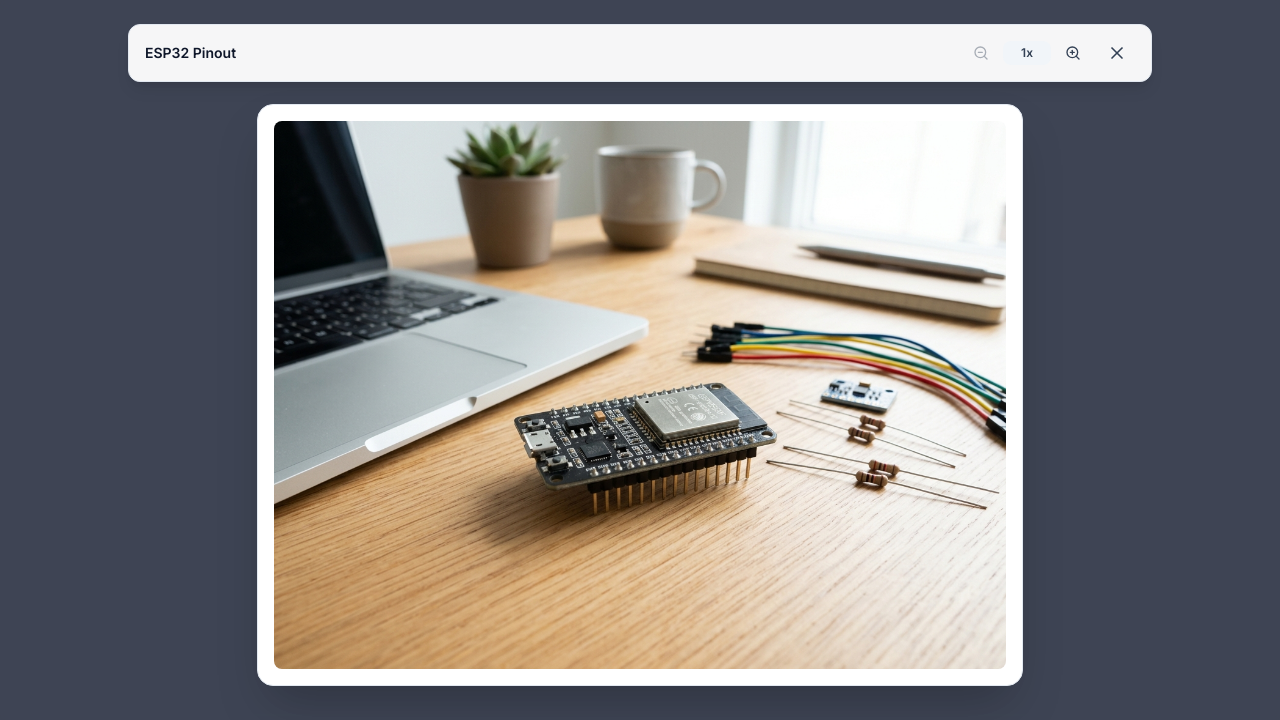
LightboxImageModal Component › opens, supports zoom toggle with scrollable container layout, and closes on Escape key
Later steps or results of the test are not shown.
Check: the text "ESP32 Pinout" is shown, box left=145, top=43, right=236, bottom=63
Click the button named "Yaxınlaşdırma dərəcəsi": (1027, 53) left=1003, top=41, right=1051, bottom=65
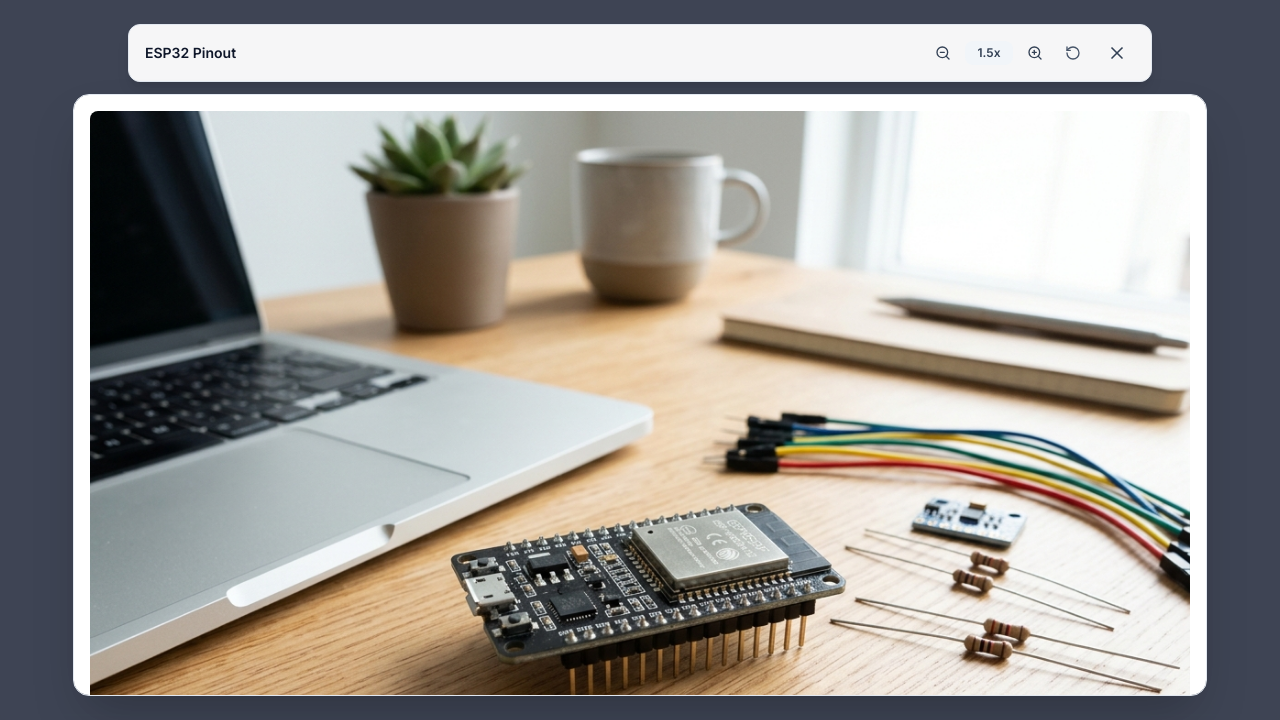
Check: the button named "Yaxınlaşdırma dərəcəsi" reads "1.5x"
Click the button named "Yaxınlaşdırma dərəcəsi": (989, 53) left=965, top=41, right=1013, bottom=65
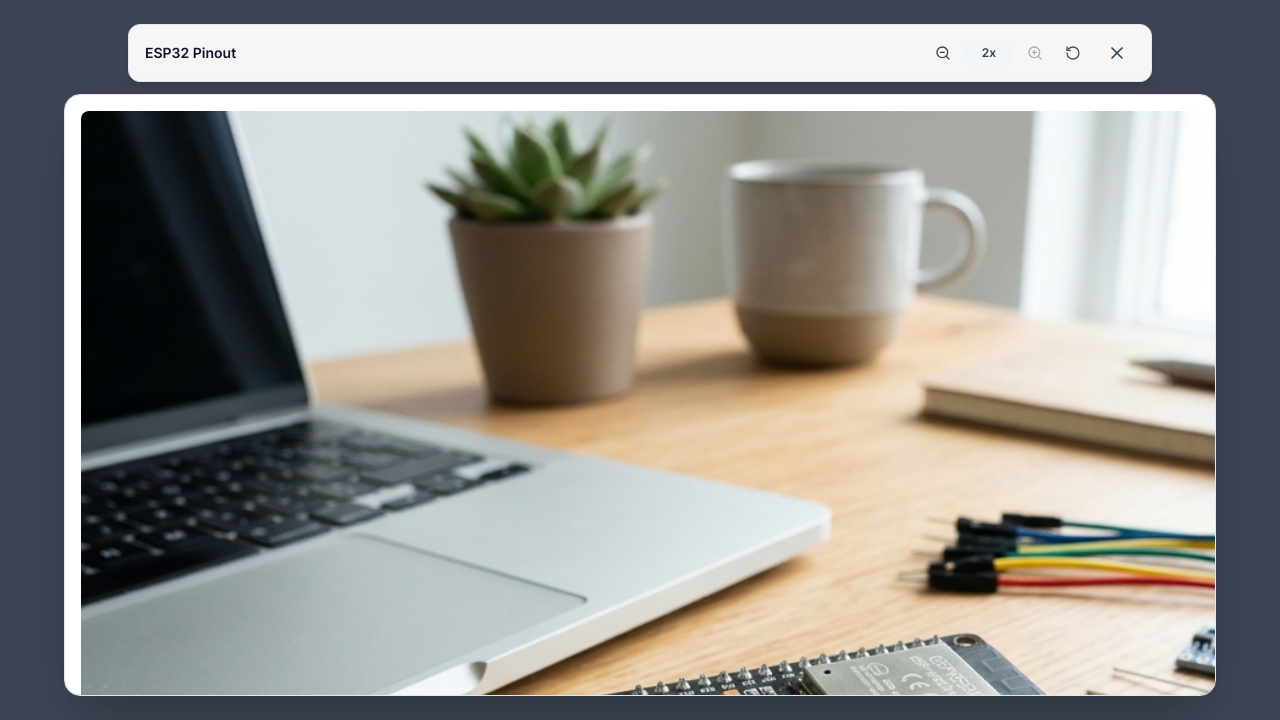
Check: the button named "Yaxınlaşdırma dərəcəsi" reads "2x", box left=965, top=41, right=1013, bottom=65
